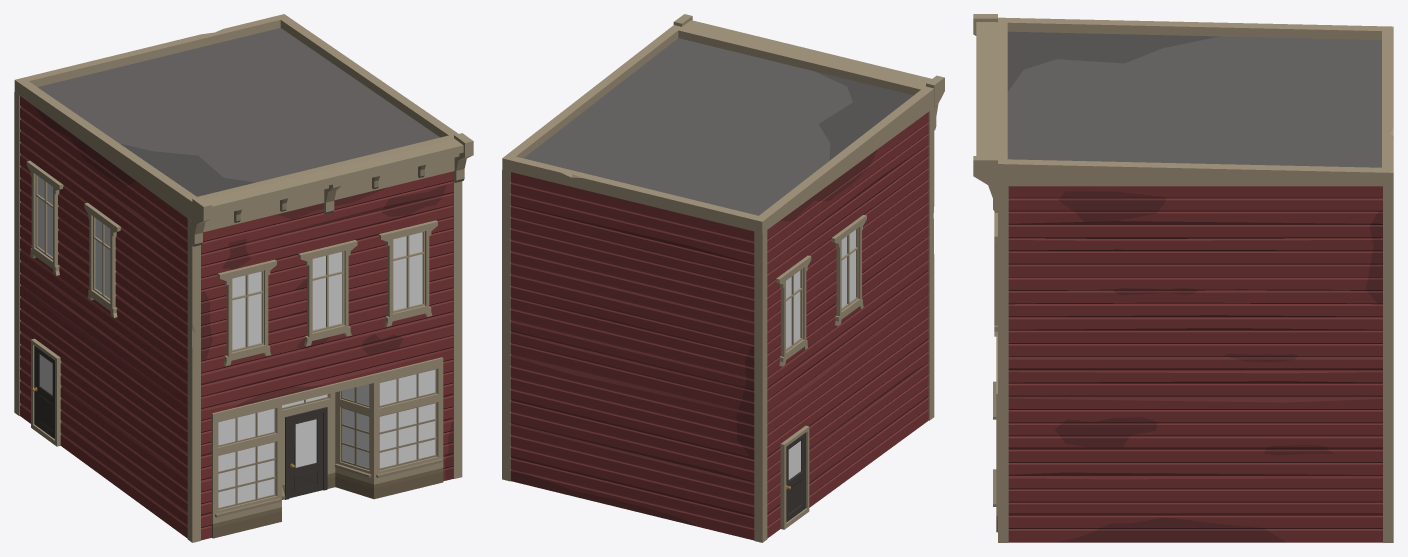
Rendered from SM_Bldg_City_Shop_08.fbx.
3 renders of one model, left to right at view 1: azimuth 30°, elevation 25°; view 2: azimuth 150°, elevation 25°; view 3: azimuth 270°, elevation 25°, orthographic. The views are drawn at different scales.
Visible parts, largest first — view 1: SM_Bldg_City_Shop_08; view 2: SM_Bldg_City_Shop_08; view 3: SM_Bldg_City_Shop_08.
Part boxes in pixels (x1,y1,x2,y2): SM_Bldg_City_Shop_08: [14, 14, 473, 542]; SM_Bldg_City_Shop_08: [502, 14, 944, 542]; SM_Bldg_City_Shop_08: [973, 14, 1393, 542].
Bounding box in the file's own units: 719 × 857 × 854.
